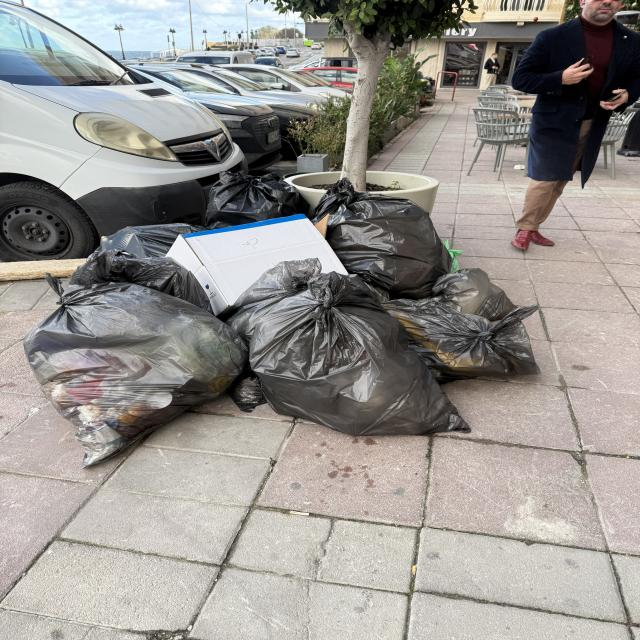Mixed Waste -Black Bags-: (23, 170, 541, 467)
Others Waste: (165, 214, 349, 316)
